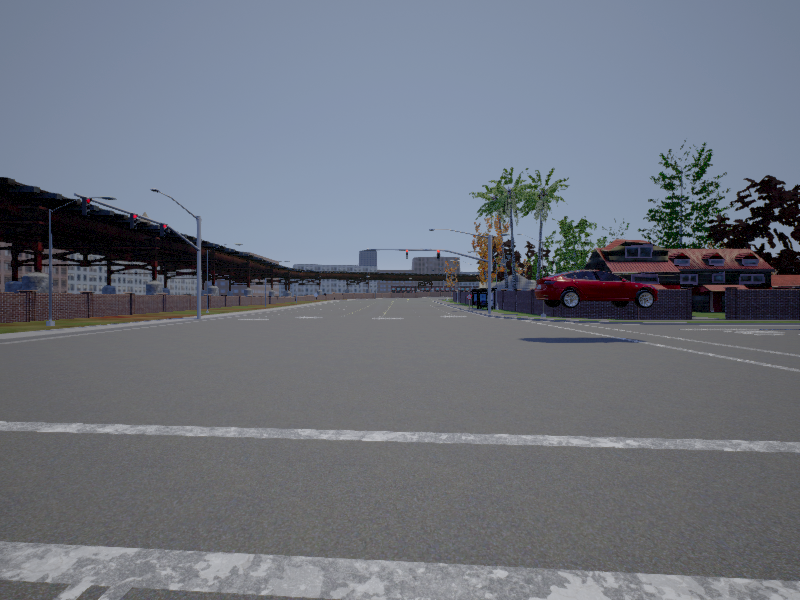Attacker: (536, 268, 657, 309)
